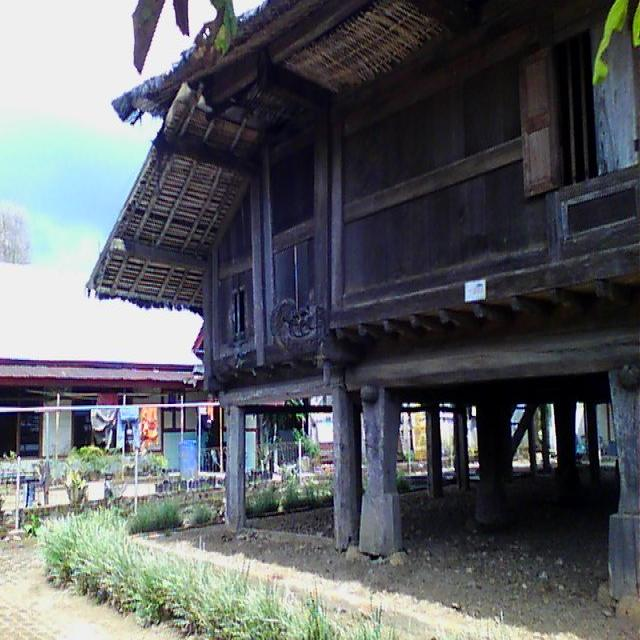Atap: (86, 2, 514, 312)
Kolom: (227, 406, 244, 532), (554, 402, 577, 481)
